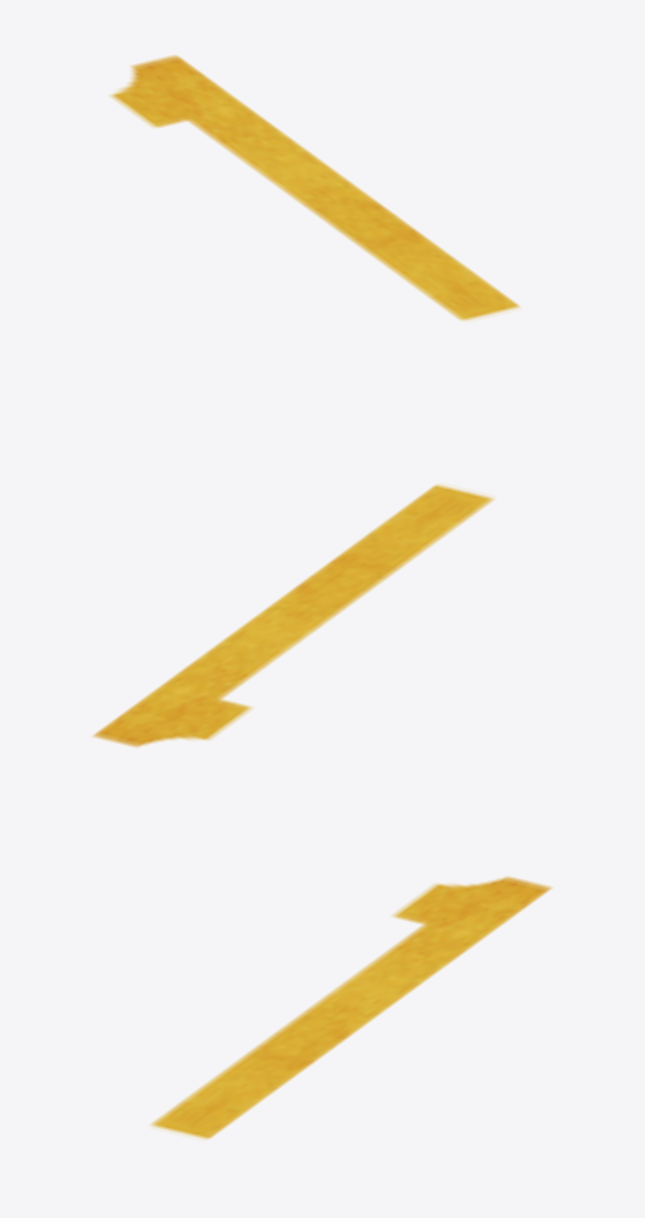
3 views of the same model, one above another, from view 1: azimuth 30°, elevation 25°; view 2: azimuth 150°, elevation 25°; view 3: azimuth 330°, elevation 25° (orthographic).
Parts seen in each view (by area): view 1: 1; view 2: 1; view 3: 1.
Boxes of the visible parts, box(x1,y1,x2,y2) form: 1: box(110, 55, 520, 320); 1: box(92, 484, 494, 747); 1: box(150, 876, 552, 1139).
Bounding box in the file's own units: 0.75 × 1.8e-07 × 4.
